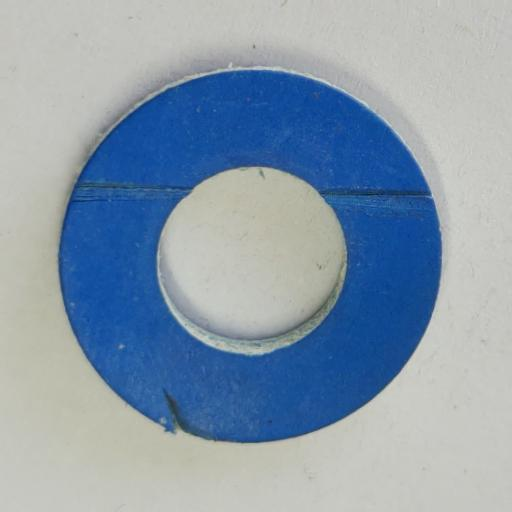defect: (69, 181, 193, 203), (322, 189, 437, 210), (162, 389, 190, 435)
